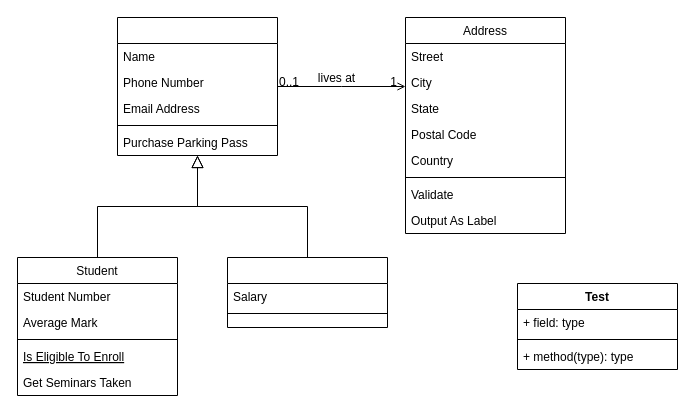
This 695x416 diagram has some shape labels left out. Here are the shapes that lost their labels. From the top down, the box of each, then its label:
(116, 16, 278, 156): Person
(226, 256, 388, 328): Professor
